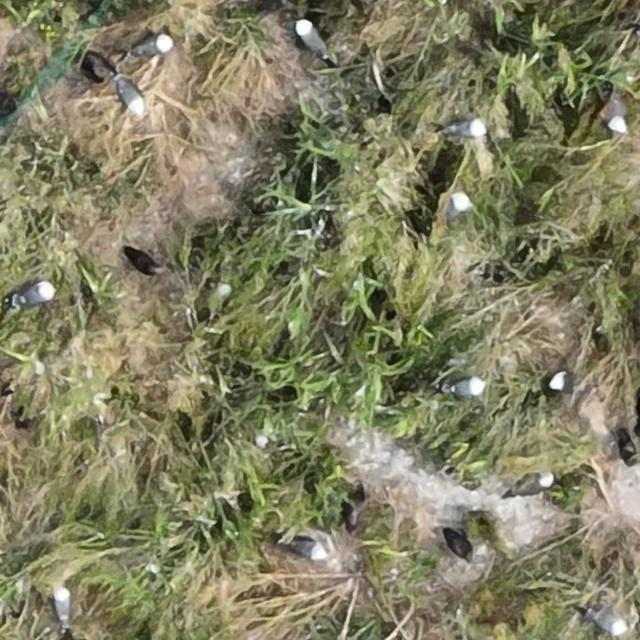umineko: (297, 21, 325, 55), (118, 79, 144, 113), (15, 283, 53, 306), (284, 539, 324, 559), (129, 37, 167, 58), (593, 612, 628, 634), (446, 120, 487, 138), (608, 100, 628, 134), (54, 590, 71, 628), (452, 377, 484, 396), (447, 192, 470, 217), (522, 474, 552, 492), (549, 372, 574, 391)
